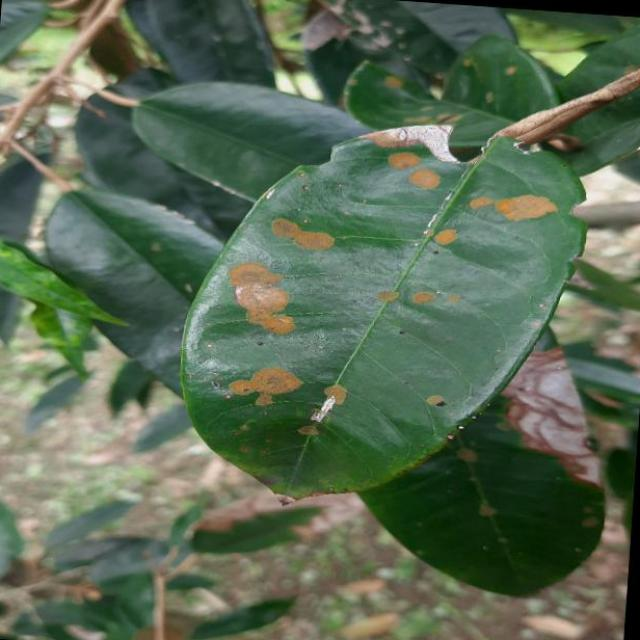Algal Leaf Spot: (165, 103, 598, 526)
